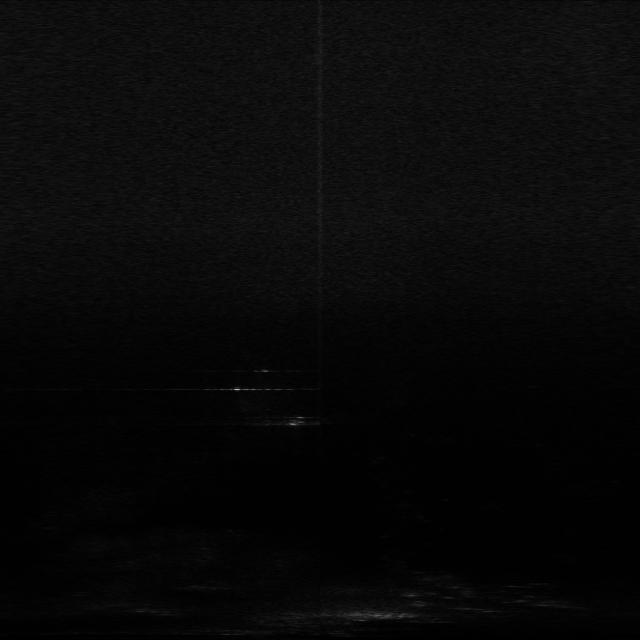rov: (282, 413, 306, 429)
